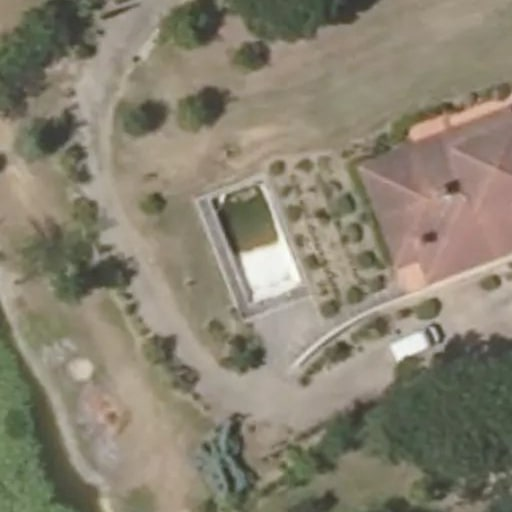pool: (214, 181, 301, 303)
